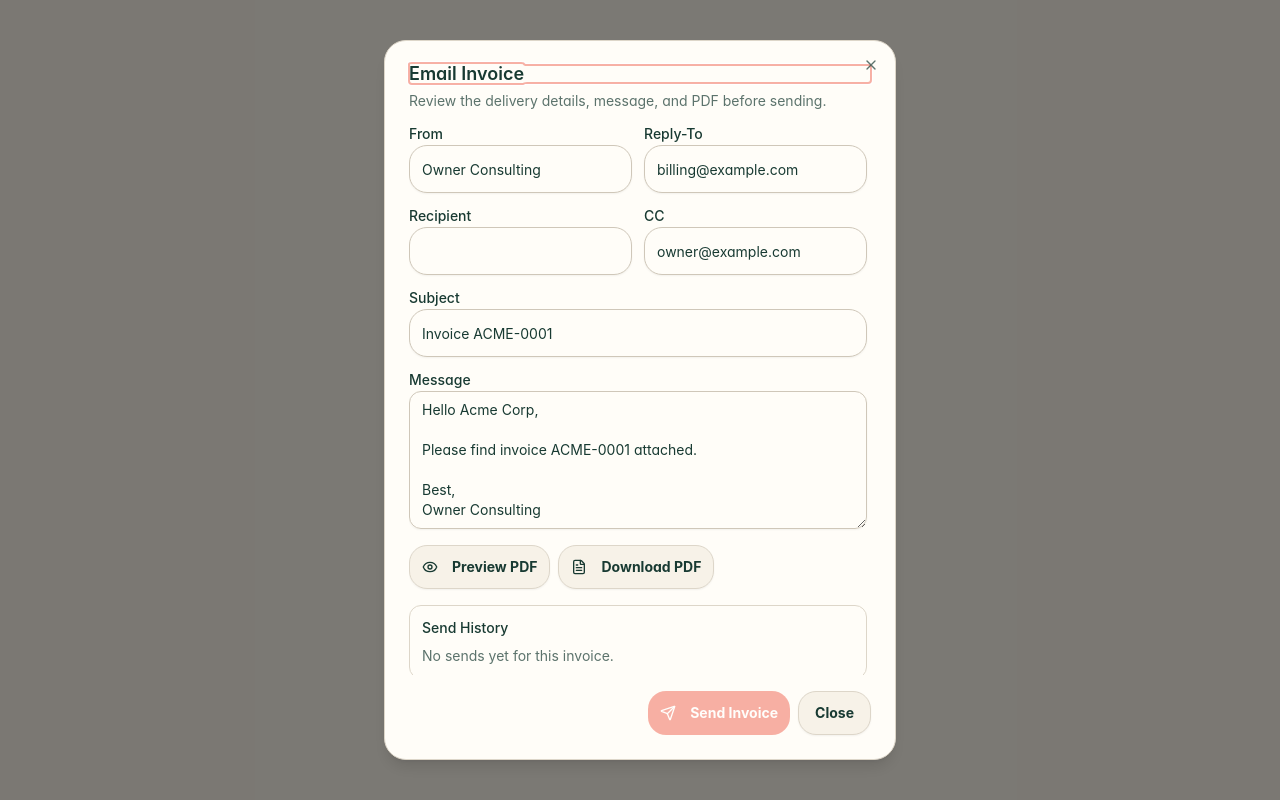
Scenario: EmailInvoiceDialog — Confirm Delivery Changes shows saved and new values › shows the saved value and the new send value for each changed field, with Not set for blanks
In the field labelled "Recipient": (520, 251) [409,227,632,275], type "changed@example.com"
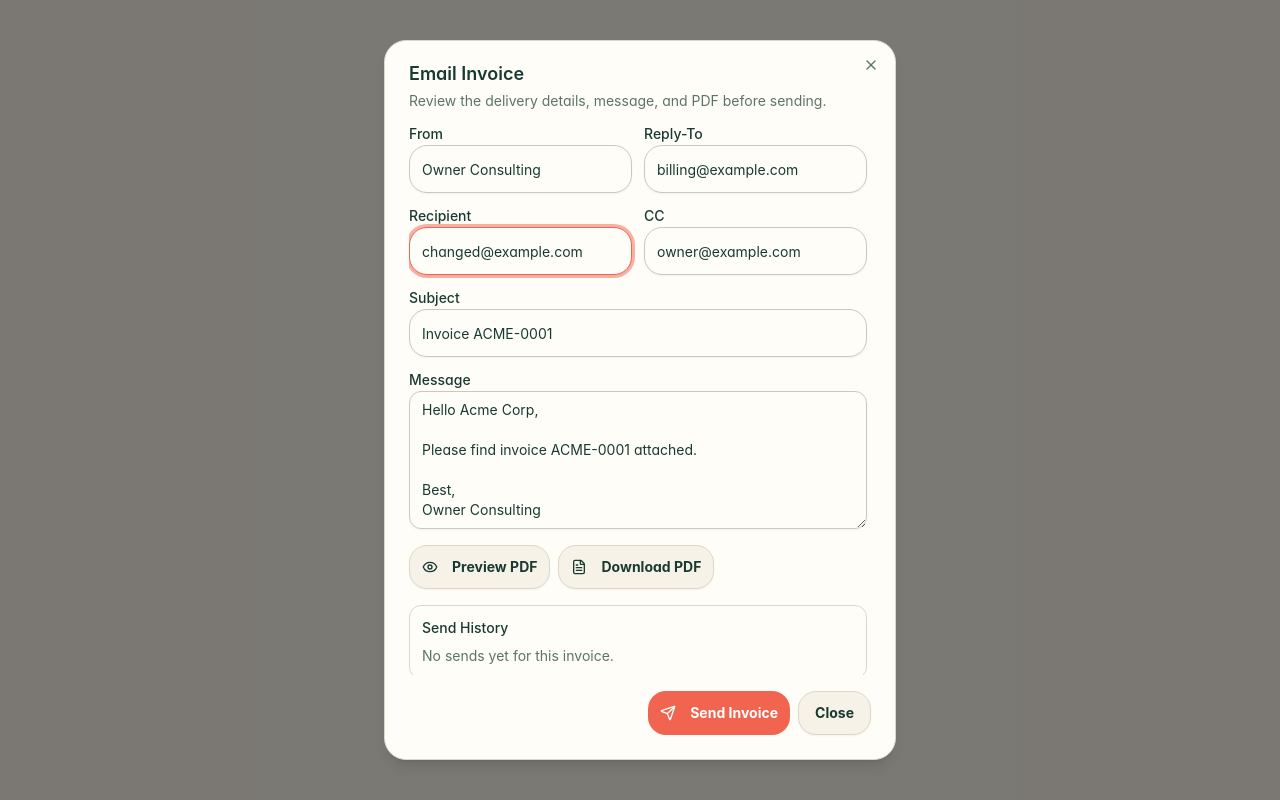
Click the button "Send Invoice": (719, 713) [648,691,790,735]
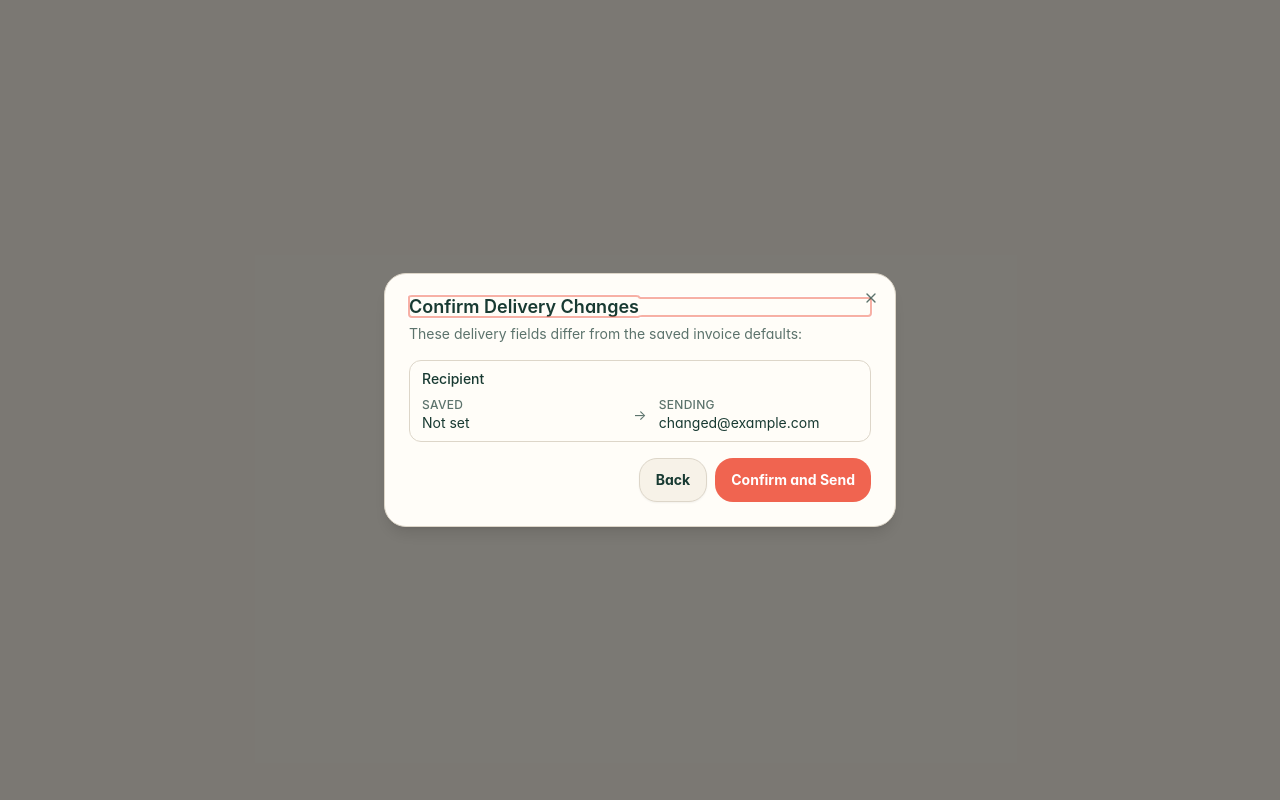
Check: the heading "Confirm Delivery Changes" is shown, box [409,296,639,317]
Check: the text "Recipient" is shown, box [422,370,484,387]
Check: the text "Recipient" shows "Not set", box [422,414,470,431]
